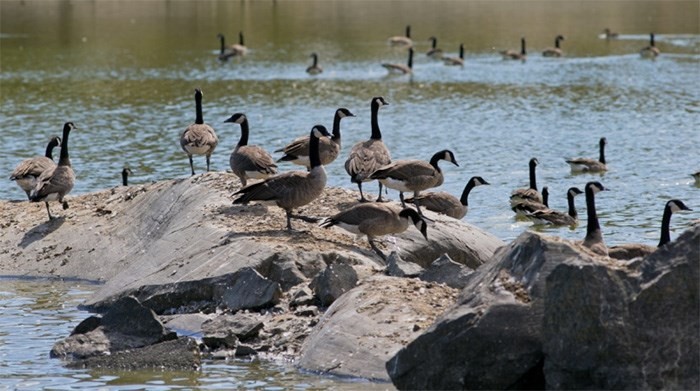goose: (231, 121, 335, 236), (321, 203, 430, 266), (275, 104, 359, 171), (31, 117, 85, 221), (609, 192, 694, 256), (344, 94, 393, 205), (369, 147, 461, 205), (222, 110, 278, 184), (176, 86, 220, 175), (406, 174, 493, 216), (10, 135, 63, 201), (565, 178, 611, 252), (533, 184, 585, 228), (566, 134, 616, 176), (509, 156, 541, 221), (381, 46, 421, 77), (539, 33, 571, 59), (529, 184, 550, 223), (213, 31, 236, 64), (500, 35, 528, 62), (443, 40, 472, 66), (387, 23, 418, 47), (639, 30, 661, 59), (120, 161, 141, 189), (305, 48, 323, 79), (232, 27, 251, 55), (422, 34, 442, 59)
